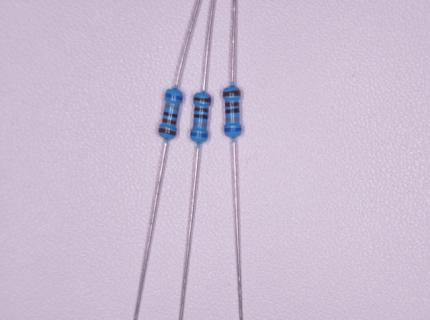Black band: (164, 112, 177, 118), (194, 114, 208, 119), (225, 108, 239, 113)
Blue band: (165, 93, 183, 101), (190, 132, 208, 137), (225, 128, 241, 132)
Brown band: (159, 128, 176, 136), (162, 118, 177, 125), (223, 90, 240, 96), (194, 97, 211, 103), (225, 102, 240, 107), (195, 107, 208, 112)
Grey band: (165, 104, 179, 110), (225, 117, 240, 121), (193, 123, 207, 127)
